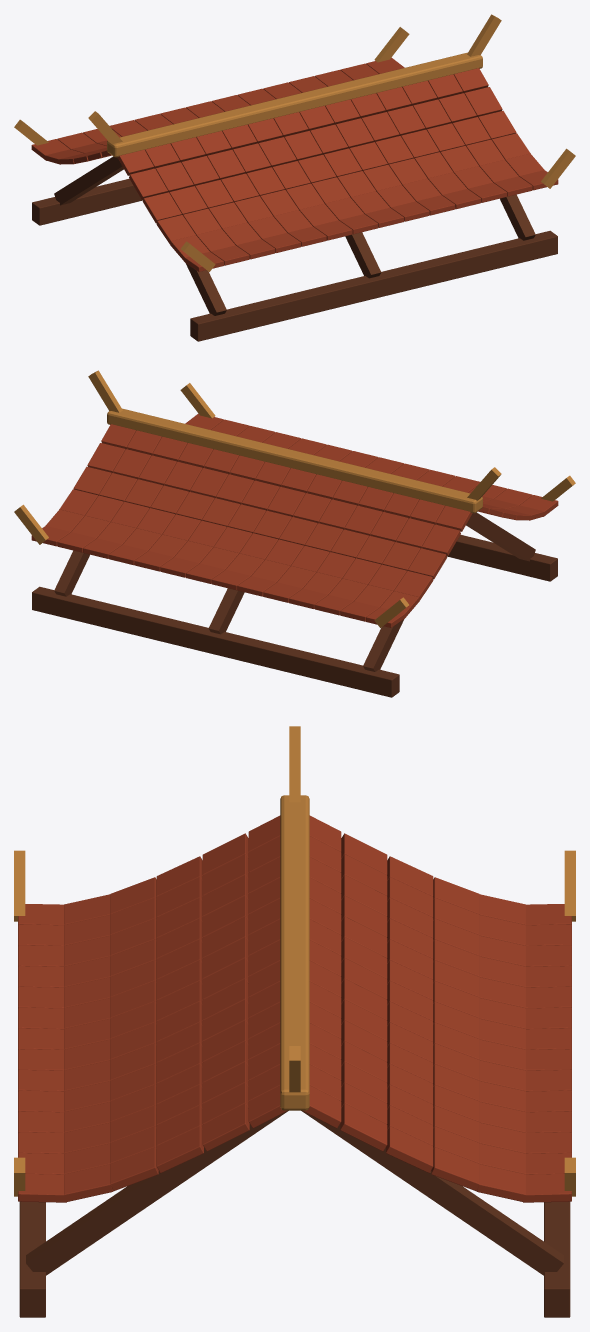
3 renders of one model, top to bottom at view 1: azimuth 30°, elevation 25°; view 2: azimuth 150°, elevation 25°; view 3: azimuth 270°, elevation 25°, orthographic. The views are drawn at different scales.
Visible parts, largest first — view 1: ROOF_EaveBeam, ROOF_Ridge, ROOF_EaveBeam.001, ROOF_Rafter.001, ROOF_Rafter, ROOF_Rafter.004, ROOF_Rafter.002, ROOF_Tile_-1_1_0, ROOF_Tile_-1_2_0, ROOF_Tile_-1_1_5, ROOF_Tile_-1_1_13, ROOF_Tile_-1_1_9 (+82 smaller); view 2: ROOF_EaveBeam.001, ROOF_Ridge, ROOF_EaveBeam, ROOF_Rafter, ROOF_Rafter.001, ROOF_Rafter.005, ROOF_Rafter.003, ROOF_Tile_1_1_0, ROOF_Tile_1_2_0, ROOF_Tile_1_1_5, ROOF_Tile_1_1_13, ROOF_Tile_1_1_9 (+82 smaller); view 3: ROOF_Ridge, ROOF_Rafter.004, ROOF_Rafter.005, ROOF_EaveBeam, ROOF_EaveBeam.001, ROOF_Tile_-1_3_13, ROOF_Tile_1_3_13, ROOF_Tile_-1_1_13, ROOF_Tile_1_1_13, ROOF_Tile_-1_2_13, ROOF_Tile_1_2_13, ROOF_Tile_-1_4_13 (+138 smaller).
Part boxes in pixels (x1,y1,x2,y2): ROOF_EaveBeam: (190,230,557,341); ROOF_Ridge: (107,52,482,157); ROOF_EaveBeam.001: (32,178,142,225); ROOF_Rafter.001: (54,156,123,205); ROOF_Rafter: (145,151,226,315); ROOF_Rafter.004: (454,76,535,240); ROOF_Rafter.002: (299,112,381,278); ROOF_Tile_-1_1_0: (129,168,167,199); ROOF_Tile_-1_2_0: (142,192,181,223); ROOF_Tile_-1_1_5: (258,137,296,167); ROOF_Tile_-1_1_13: (464,87,502,117); ROOF_Tile_-1_1_9: (361,112,399,142); ROOF_EaveBeam.001: (32,586,399,697); ROOF_Ridge: (107,408,482,513); ROOF_EaveBeam: (447,534,557,581); ROOF_Rafter: (466,512,535,561); ROOF_Rafter.001: (363,507,444,671); ROOF_Rafter.005: (54,432,135,596); ROOF_Rafter.003: (208,468,290,634); ROOF_Tile_1_1_0: (422,524,460,555); ROOF_Tile_1_2_0: (408,548,447,579); ROOF_Tile_1_1_5: (293,493,331,523); ROOF_Tile_1_1_13: (87,443,125,473); ROOF_Tile_1_1_9: (190,468,228,498); ROOF_Ridge: (280,795,309,1110); ROOF_Rafter.004: (26,1110,288,1275); ROOF_Rafter.005: (301,1110,563,1275); ROOF_EaveBeam: (19,1201,45,1317); ROOF_EaveBeam.001: (544,1201,570,1317); ROOF_Tile_-1_3_13: (110,1147,158,1191); ROOF_Tile_1_3_13: (431,1147,479,1191); ROOF_Tile_-1_1_13: (202,1103,249,1151); ROOF_Tile_1_1_13: (340,1103,387,1151); ROOF_Tile_-1_2_13: (156,1126,203,1173); ROOF_Tile_1_2_13: (386,1126,433,1173); ROOF_Tile_-1_4_13: (64,1164,113,1201).
Bounding box in the file's own units: 4.78 × 1.93 × 3.43.
